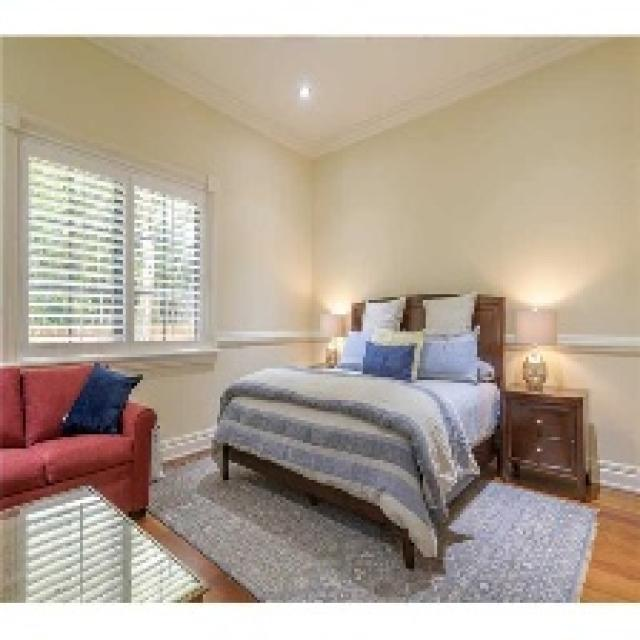Bed: (208, 292, 506, 568)
